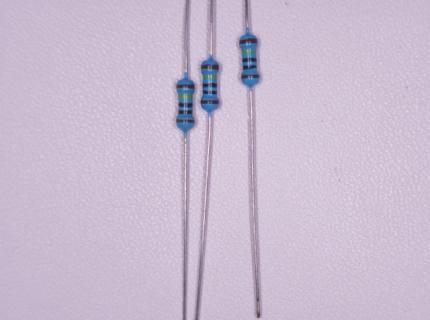Black band: (242, 57, 257, 63), (203, 83, 217, 88), (243, 65, 257, 70), (179, 103, 193, 107), (179, 110, 192, 114), (203, 91, 217, 94)
Brown band: (240, 38, 258, 45), (201, 65, 219, 70), (241, 74, 259, 79), (177, 84, 194, 89), (201, 100, 219, 104), (177, 119, 194, 123)
Yellow band: (178, 94, 193, 99), (203, 75, 217, 79), (242, 50, 256, 53)
